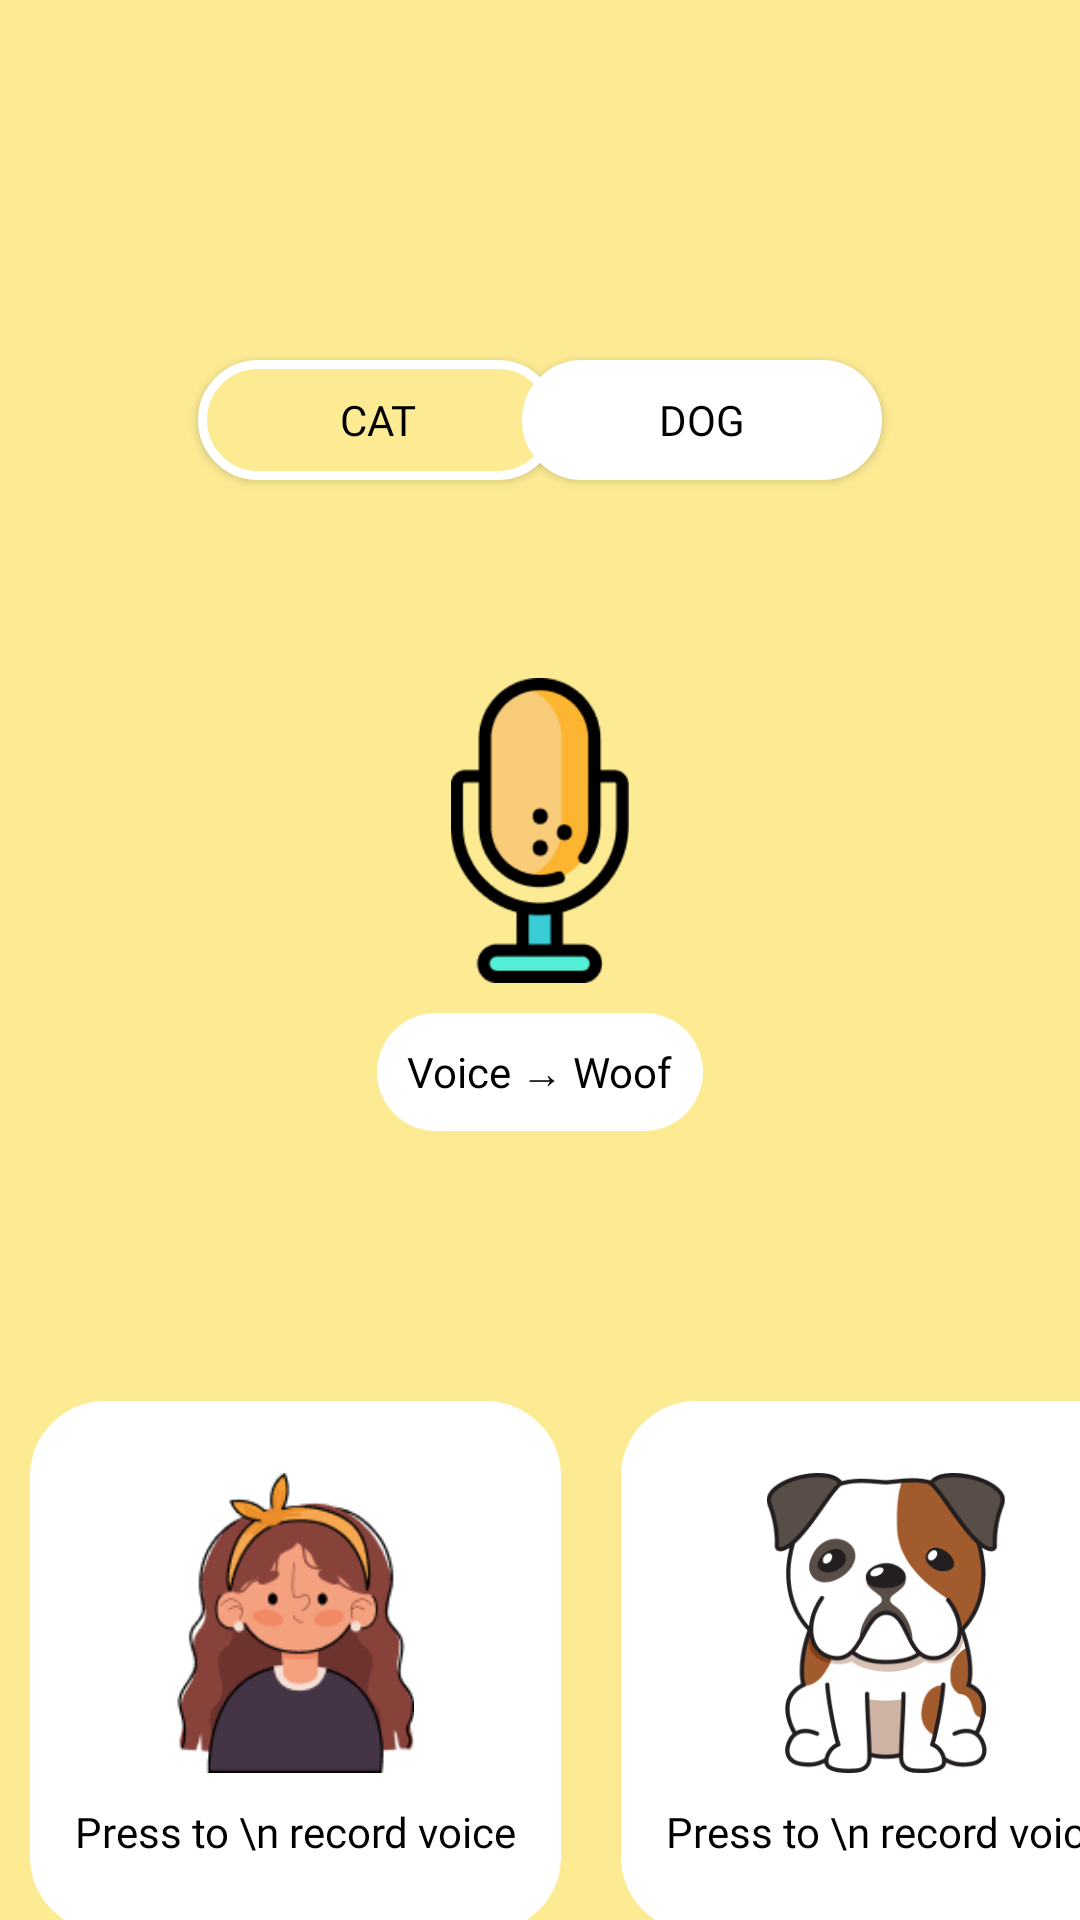

Locate icon controls on the screen. Image size 1080px x 1920px, boxes as (x1, y1, x2, y2).
Dog Image: (767, 1473, 1005, 1773)
Girl Image: (177, 1473, 414, 1773)
microphone: (451, 678, 629, 983)
